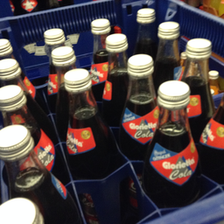soda: (1, 125, 82, 224), (144, 80, 199, 200), (63, 67, 116, 180), (122, 55, 160, 159)
